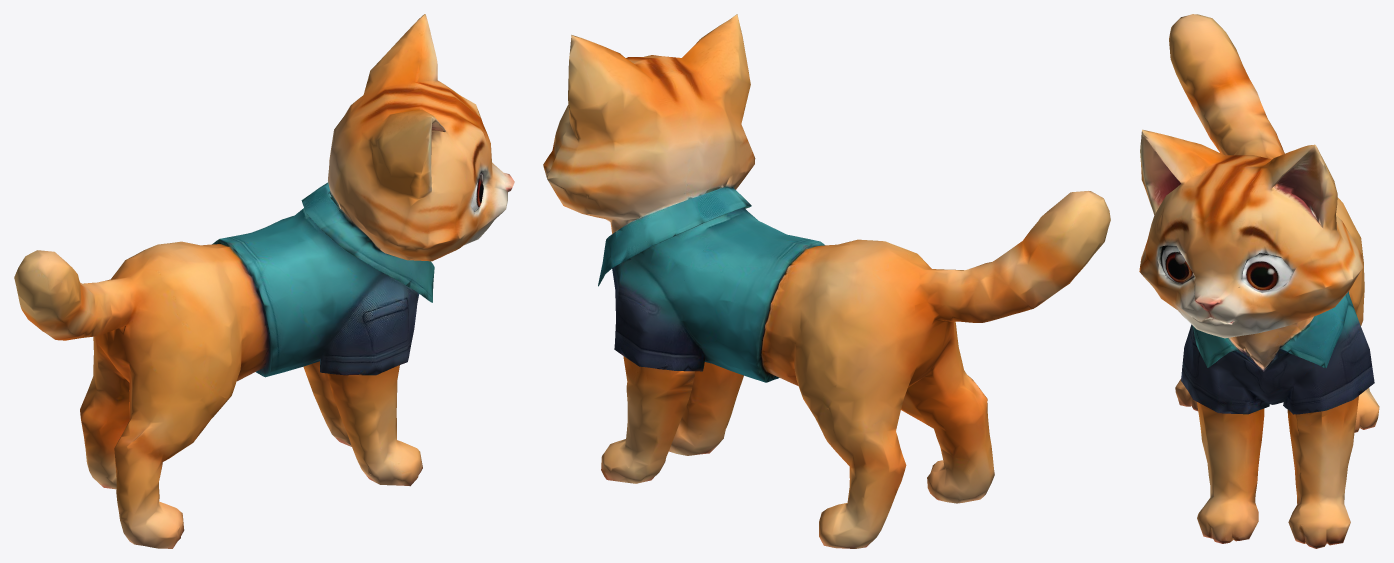
Rendered from CHIK.glb.
3 views of the same model, side by side, from view 1: azimuth 30°, elevation 25°; view 2: azimuth 150°, elevation 25°; view 3: azimuth 270°, elevation 25° (orthographic). The views are drawn at different scales.
Parts seen in each view (by area): view 1: fit; view 2: fit; view 3: fit.
Part boxes in pixels (x1,y1,x2,y2): fit: (14, 14, 514, 548); fit: (543, 14, 1110, 548); fit: (1139, 14, 1379, 548).
Size of the model in its own units: 1.26 by 1 by 0.5104.
1 material, 1 textured.
